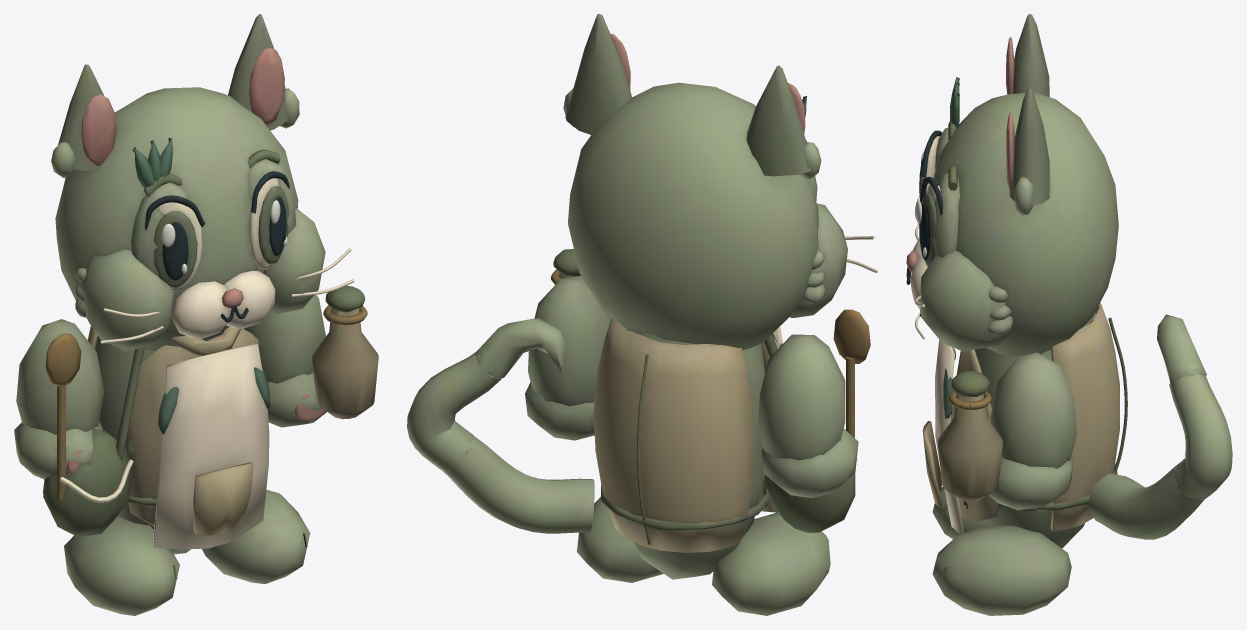
Rendered from sorrel.glb.
3 views of the same model, side by side, from view 1: azimuth 30°, elevation 25°; view 2: azimuth 150°, elevation 25°; view 3: azimuth 270°, elevation 25° (orthographic). The views are drawn at different scales.
Parts seen in each view (by area): view 1: cheek-head, pear-body, arm, hind-paw, porcelain-eye, arm.001, rounded-tea-flask, seed-pod-satchel, hind-paw.001, rounded-ear-R, rounded-ear-L, tea-spoon-handle (+1 smaller); view 2: cheek-head, pear-body, arm, arm.001, hind-paw, tail-root, tail-mid, rounded-ear-L, rounded-ear-R, hind-paw.001, tail-tip, seed-pod-satchel (+2 smaller); view 3: cheek-head, pear-body, arm.001, hind-paw.001, rounded-tea-flask, tail-mid, tail-root, rounded-ear-R, rounded-ear-L, porcelain-eye, tail-tip, hind-paw.
Boxes of the visible parts, left/top/right/bottom form: cheek-head: left=55, top=87, right=354, bottom=351; pear-body: left=87, top=326, right=270, bottom=554; arm: left=14, top=319, right=104, bottom=479; hind-paw: left=64, top=516, right=179, bottom=615; porcelain-eye: left=144, top=171, right=289, bottom=291; arm.001: left=243, top=295, right=326, bottom=427; rounded-tea-flask: left=312, top=285, right=378, bottom=419; seed-pod-satchel: left=43, top=428, right=133, bottom=537; hind-paw.001: left=202, top=489, right=310, bottom=584; rounded-ear-R: left=228, top=14, right=299, bottom=130; rounded-ear-L: left=51, top=64, right=117, bottom=178; tea-spoon-handle: left=45, top=333, right=81, bottom=500; cheek-head: left=568, top=82, right=877, bottom=350; pear-body: left=593, top=319, right=782, bottom=579; arm: left=758, top=334, right=858, bottom=498; arm.001: left=525, top=278, right=611, bottom=440; hind-paw: left=712, top=512, right=830, bottom=615; tail-root: left=442, top=435, right=594, bottom=533; tail-mid: left=407, top=352, right=501, bottom=471; rounded-ear-L: left=746, top=65, right=821, bottom=178; rounded-ear-R: left=563, top=14, right=631, bottom=135; hind-paw.001: left=576, top=497, right=663, bottom=582; tail-tip: left=474, top=318, right=566, bottom=379; seed-pod-satchel: left=764, top=458, right=857, bottom=532; cheek-head: left=910, top=77, right=1118, bottom=356; pear-body: left=922, top=302, right=1127, bottom=548; arm.001: left=988, top=352, right=1076, bottom=510; hind-paw.001: left=932, top=525, right=1071, bottom=615; rounded-tea-flask: left=937, top=371, right=1002, bottom=501; tail-mid: left=1169, top=374, right=1232, bottom=499; tail-root: left=1087, top=462, right=1204, bottom=539; rounded-ear-R: left=1006, top=89, right=1049, bottom=215; rounded-ear-L: left=1006, top=14, right=1049, bottom=96; porcelain-eye: left=915, top=130, right=942, bottom=266; tail-tip: left=1157, top=314, right=1206, bottom=383; hind-paw: left=932, top=487, right=991, bottom=538.
Size of the model in its own units: 1.19 by 1.85 by 1.03.
1 material, 1 textured.
